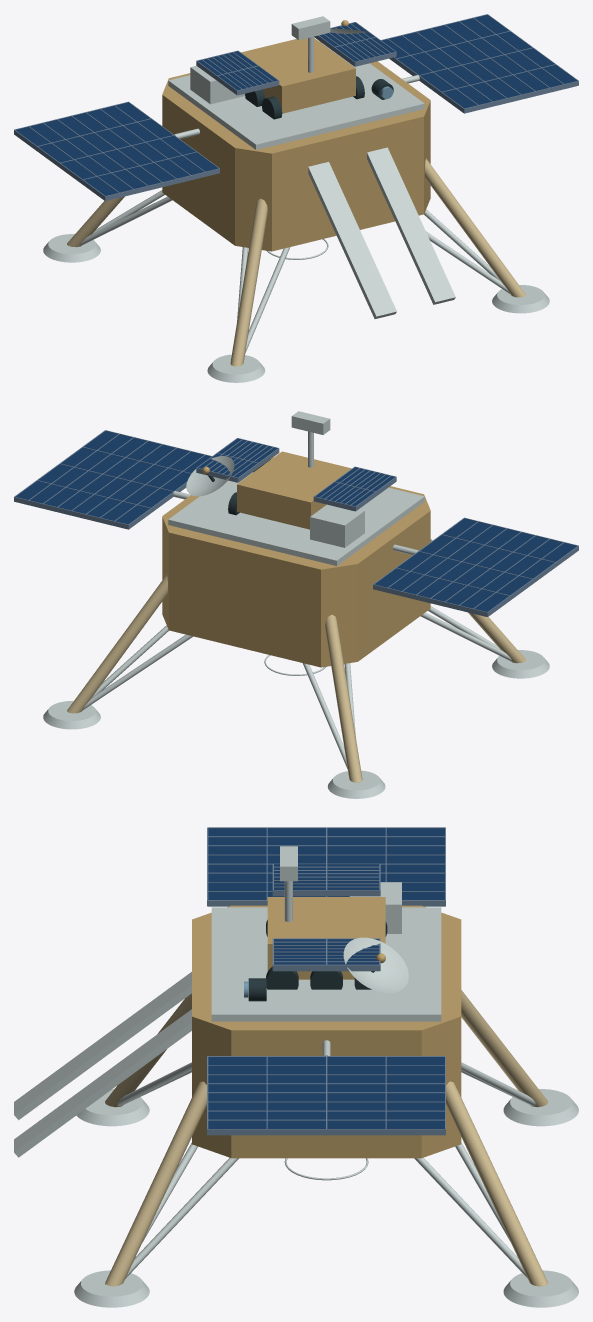
File: change-3.glb
3 views of the same model, one above another, from view 1: azimuth 30°, elevation 25°; view 2: azimuth 150°, elevation 25°; view 3: azimuth 270°, elevation 25° (orthographic). The views are drawn at different scales.
Visible parts, largest first — view 1: Change-lander-octagonal-deck, deployed-lander-solar-wing (×2), Yutu-transfer-ramp (×2), upper-deck, solar, Yutu-rover-body, payload, legs, Yutu-deployed-solar-wing (×2), landing-leg-2, landing-leg-1, landing-footpad-2 (+4 smaller); view 2: Change-lander-octagonal-deck, deployed-lander-solar-wing (×2), upper-deck, solar, Yutu-rover-body, legs, payload, Yutu-deployed-solar-wing (×2), landing-leg-3, landing-leg-4, lunar-ultraviolet-telescope-envelope, landing-footpad-3 (+4 smaller); view 3: deployed-lander-solar-wing (×2), Change-lander-octagonal-deck, upper-deck, solar, Yutu-transfer-ramp (×2), payload, Yutu-rover-body, legs, Yutu-deployed-solar-wing (×2), landing-leg-4, landing-leg-1, landing-leg-3 (+7 smaller).
Boxes of the visible parts, box(x1,y1,x2,y2) form: Change-lander-octagonal-deck: box(162, 41, 430, 251); deployed-lander-solar-wing (×2): box(16, 15, 577, 195); Yutu-transfer-ramp (×2): box(308, 147, 455, 318); upper-deck: box(168, 43, 424, 149); solar: box(14, 14, 578, 200); Yutu-rover-body: box(241, 38, 355, 113); payload: box(196, 16, 396, 119); legs: box(80, 190, 510, 353); Yutu-deployed-solar-wing (×2): box(198, 22, 394, 90); landing-leg-2: box(230, 198, 267, 366); landing-leg-1: box(425, 158, 525, 297); landing-footpad-2: box(207, 354, 265, 382); Change-lander-octagonal-deck: box(162, 457, 430, 667); deployed-lander-solar-wing (×2): box(15, 431, 577, 611); upper-deck: box(168, 472, 424, 565); solar: box(14, 430, 578, 616); Yutu-rover-body: box(237, 451, 351, 529); legs: box(82, 606, 512, 769); payload: box(196, 411, 396, 515); Yutu-deployed-solar-wing (×2): box(198, 438, 394, 506); landing-leg-3: box(325, 614, 362, 782); landing-leg-4: box(67, 574, 167, 713); lunar-ultraviolet-telescope-envelope: box(310, 504, 364, 547); landing-footpad-3: box(327, 770, 385, 798); deployed-lander-solar-wing (×2): box(208, 828, 444, 1128); Change-lander-octagonal-deck: box(192, 905, 461, 1158); upper-deck: box(211, 907, 441, 1021); solar: box(207, 827, 445, 1135); Yutu-transfer-ramp (×2): box(14, 972, 191, 1157); payload: box(266, 846, 387, 989); Yutu-rover-body: box(267, 897, 385, 979); legs: box(117, 1062, 535, 1278); Yutu-deployed-solar-wing (×2): box(274, 864, 379, 964); landing-leg-4: box(446, 1081, 547, 1286); landing-leg-1: box(105, 1081, 206, 1286); landing-leg-3: box(461, 990, 548, 1107).
Bounding box in the file's own units: 4.36 × 2.32 × 3.44.
